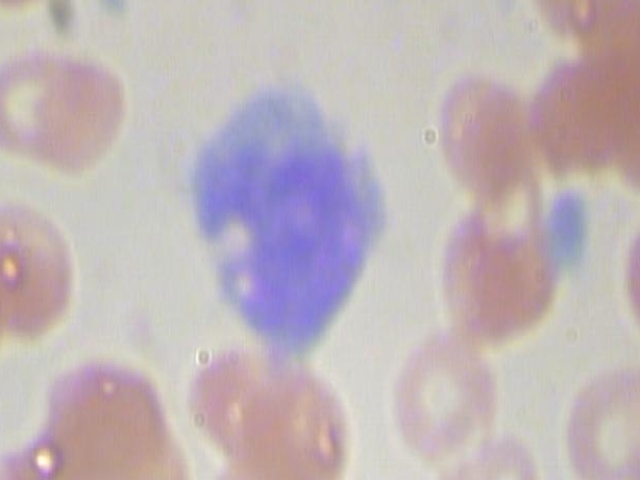Platelets: (549, 186, 598, 243), (89, 0, 138, 19)
RBC: (425, 194, 565, 343), (398, 49, 538, 198), (25, 43, 165, 192), (169, 337, 302, 480), (386, 329, 502, 480), (250, 348, 382, 480), (46, 334, 164, 480), (518, 46, 635, 189), (0, 183, 96, 345), (0, 31, 100, 164), (553, 350, 640, 480), (432, 404, 548, 480), (242, 446, 373, 480), (0, 0, 87, 19)
WBC: (169, 61, 396, 364)
